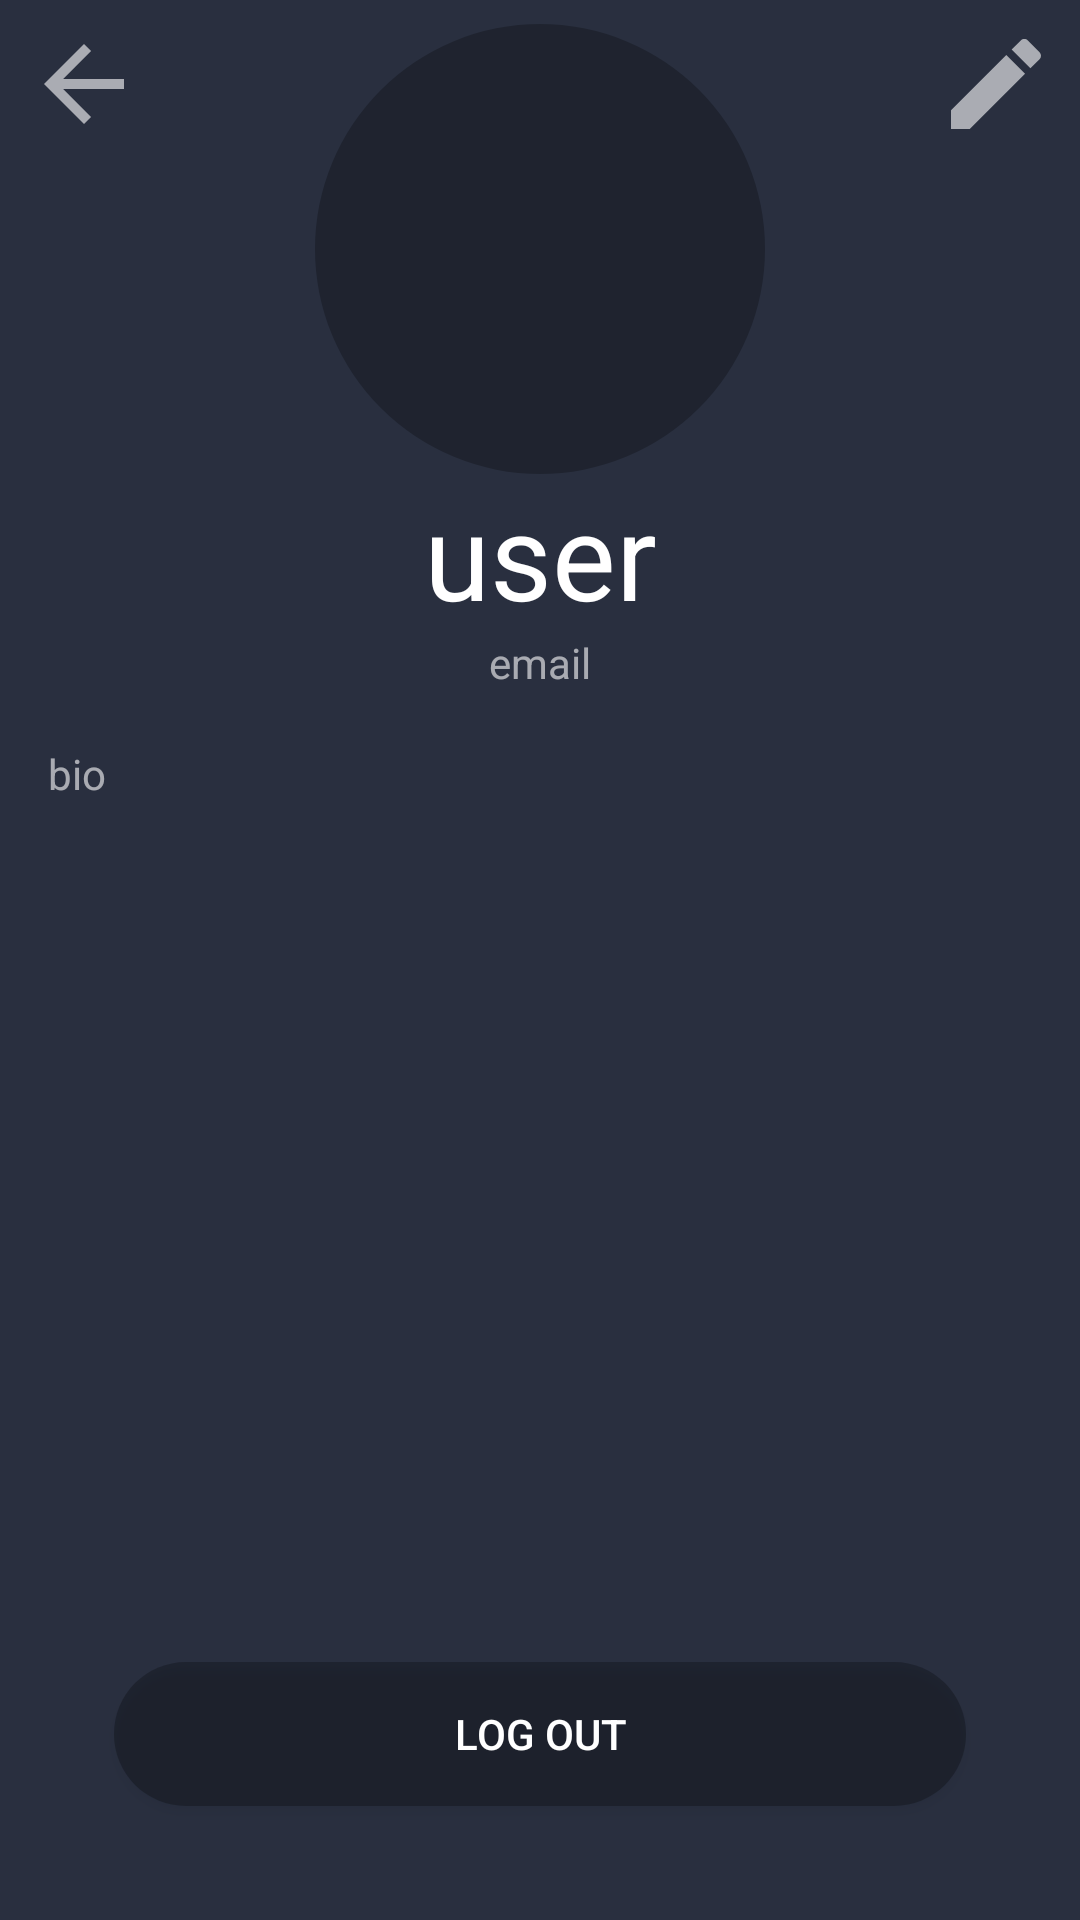

Icons on this 1080 × 1920 Android screen, each with its box as (x1, y1, x2, y2):
edit: (951, 39, 1041, 129)
go back: (44, 44, 124, 124)
